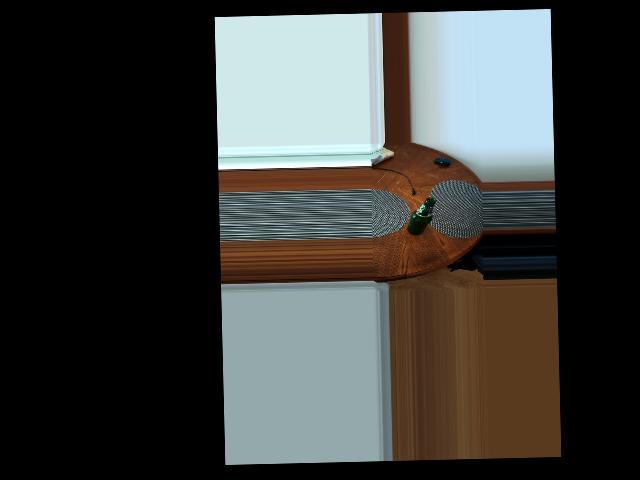beer: (404, 197, 436, 235)
